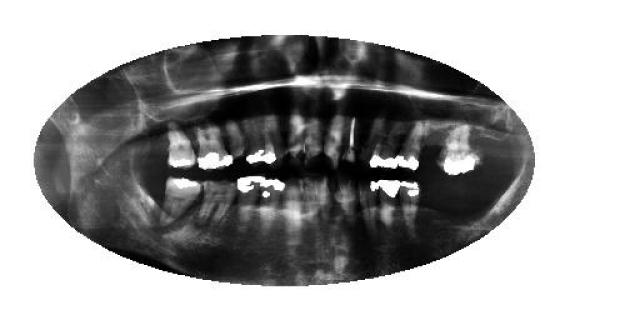Cavity: (199, 175, 236, 225), (323, 114, 345, 170), (282, 109, 302, 168), (302, 111, 322, 169)
Fillings: (160, 176, 204, 228), (438, 122, 478, 178), (245, 108, 277, 166), (195, 122, 231, 172), (235, 175, 264, 235), (258, 175, 284, 233), (166, 121, 196, 170), (396, 122, 425, 172), (398, 178, 422, 236), (369, 128, 399, 170), (378, 178, 398, 238), (358, 176, 378, 236)
